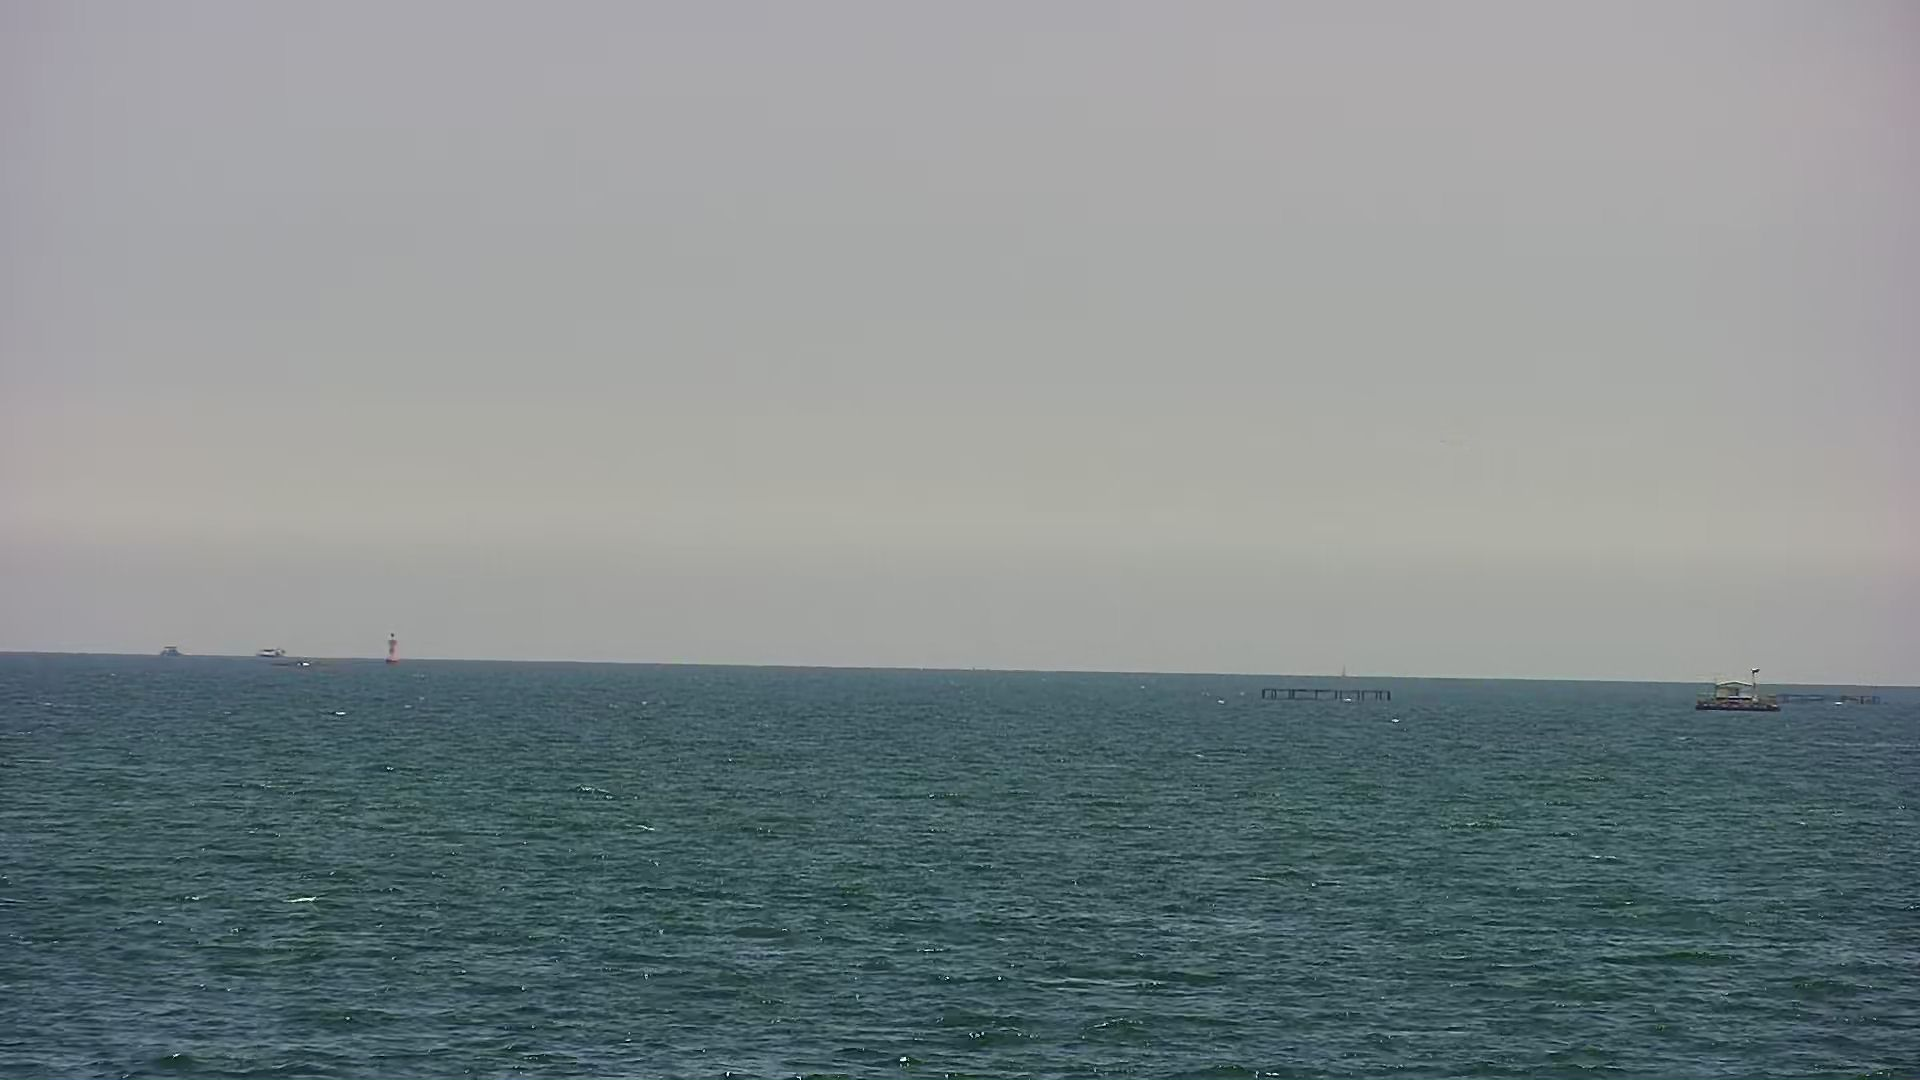buoy: (378, 630, 411, 671)
platform: (1692, 658, 1789, 717), (1768, 674, 1907, 715), (1249, 674, 1400, 705), (149, 636, 193, 658), (247, 638, 287, 658)
